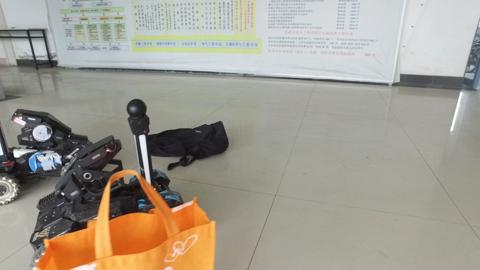chariot: (1, 109, 84, 199)
